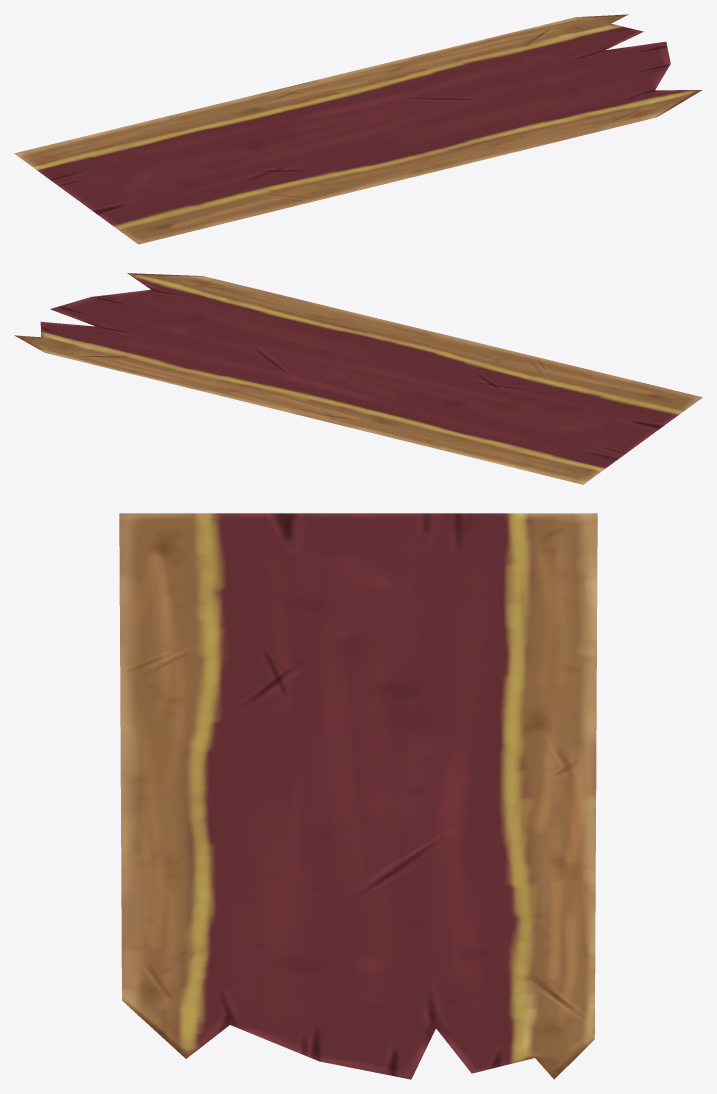
Rendered from Carpet_1.fbx.
3 views of the same model, one above another, from view 1: azimuth 30°, elevation 25°; view 2: azimuth 150°, elevation 25°; view 3: azimuth 270°, elevation 25° (orthographic). The views are drawn at different scales.
Parts seen in each view (by area): view 1: Carpet_2; view 2: Carpet_2; view 3: Carpet_2.
Boxes of the visible parts, box(x1,y1,x2,y2) form: Carpet_2: box(14, 14, 701, 244); Carpet_2: box(14, 273, 702, 484); Carpet_2: box(119, 513, 597, 1079).
Size of the model in its own units: 456 by 2.65e-05 by 163.
